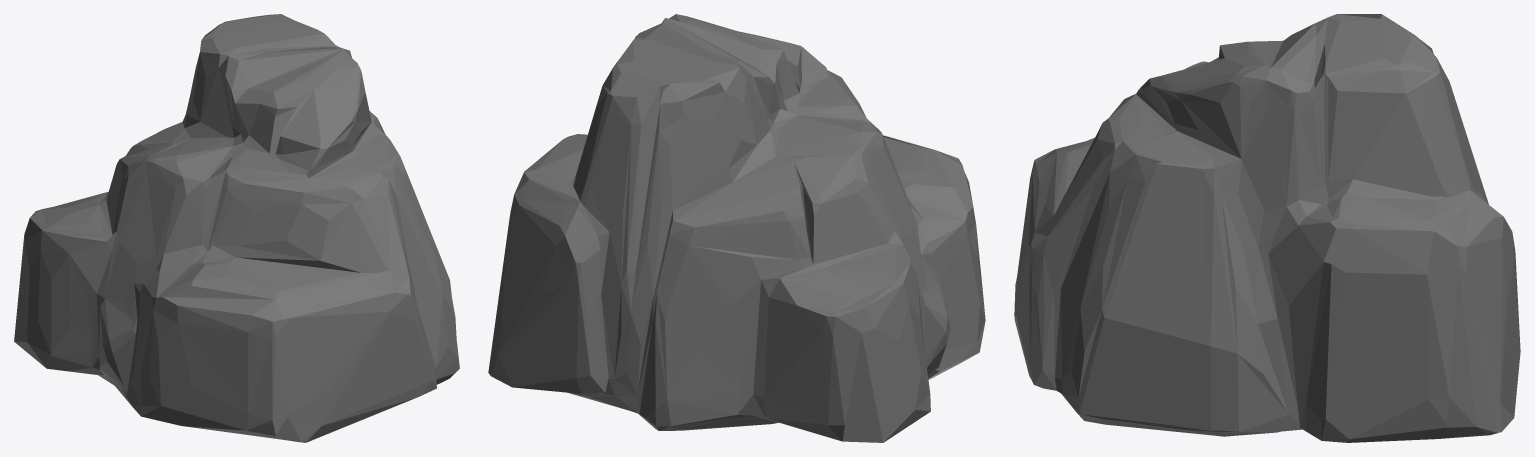
The model's file is Rock_022.glb.
3 renders of one model, left to right at view 1: azimuth 30°, elevation 25°; view 2: azimuth 150°, elevation 25°; view 3: azimuth 270°, elevation 25°, orthographic. The views are drawn at different scales.
Parts seen in each view (by area): view 1: Rock_022; view 2: Rock_022; view 3: Rock_022.
Part boxes in pixels (x1,y1,x2,y2): Rock_022: [14, 14, 459, 442]; Rock_022: [488, 14, 985, 442]; Rock_022: [1014, 14, 1520, 442].
Bounding box in the file's own units: 4.1 × 3.19 × 4.27.
Materials: 1 (1 with a texture image).
